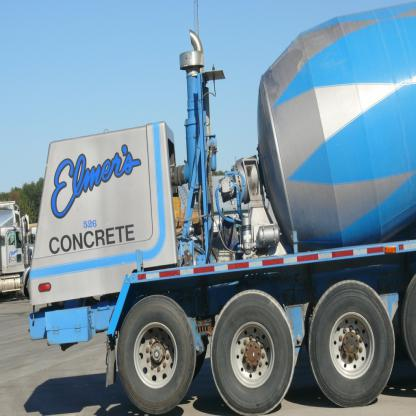Truck: (29, 3, 415, 416), (1, 204, 34, 298)
